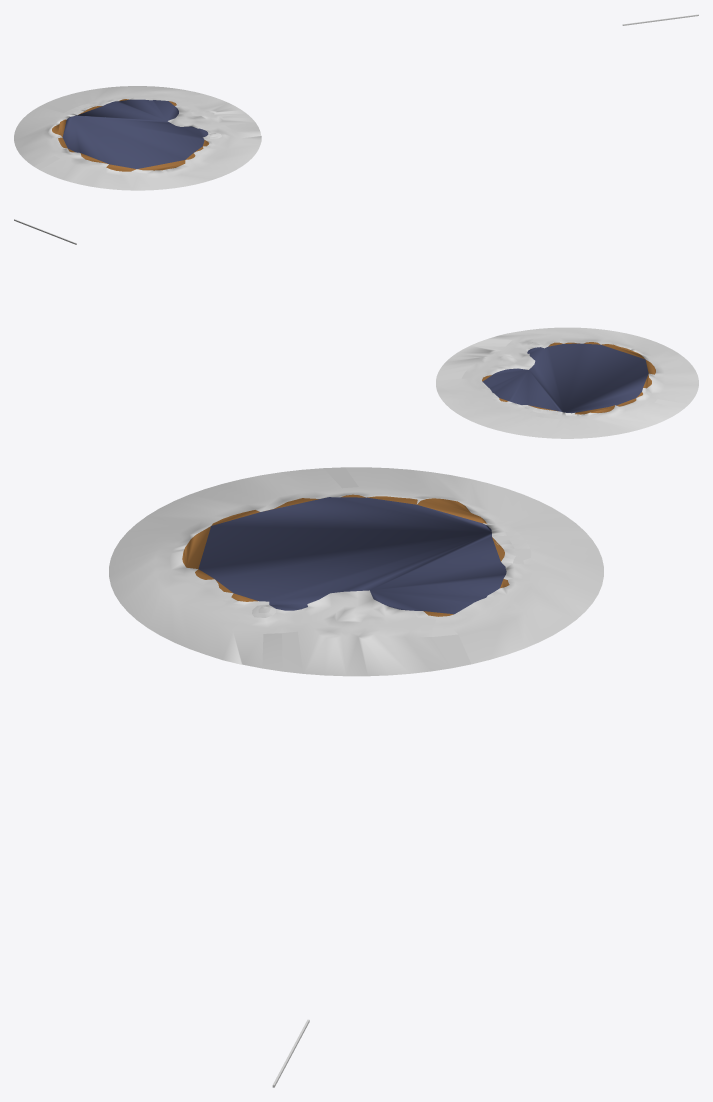
File: boat_sand.fbx
The picture shows the model from 3 angles, top to bottom: view 1: azimuth 30°, elevation 25°; view 2: azimuth 150°, elevation 25°; view 3: azimuth 270°, elevation 25°; orthographic projection. The views are drawn at different scales.
Parts seen in each view (by area): view 1: Object_7.004; view 2: Object_7.004; view 3: Object_7.004.
Part boxes in pixels (bbox=[...]): Object_7.004: bbox=[14, 86, 261, 190]; Object_7.004: bbox=[436, 327, 698, 438]; Object_7.004: bbox=[109, 467, 603, 676].
Size of the model in its own units: 7124 by 83.03 by 2359.
